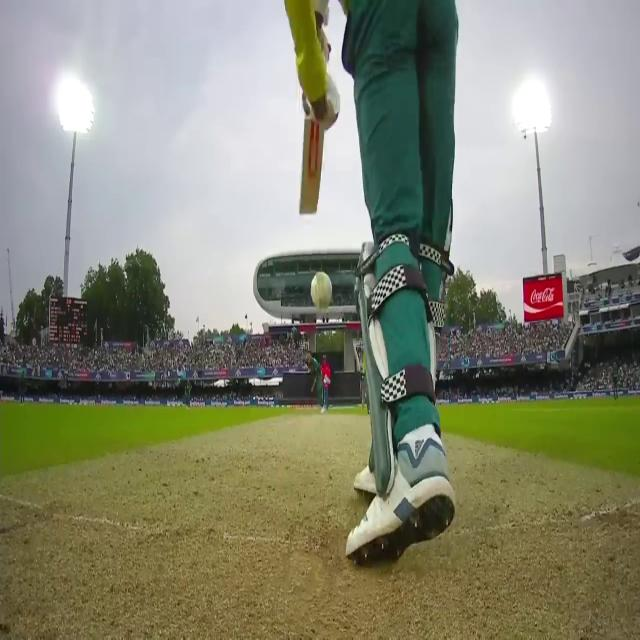ball: (308, 266, 336, 313)
